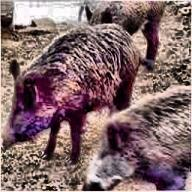boar: (1, 22, 152, 164), (82, 85, 191, 191), (84, 0, 172, 70)
